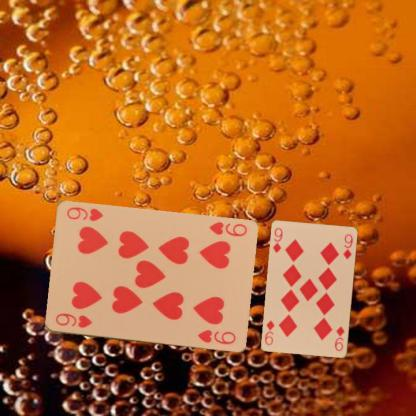9d: (331, 324, 346, 352), (270, 225, 284, 254)
9h: (53, 310, 93, 330), (206, 219, 248, 238)
